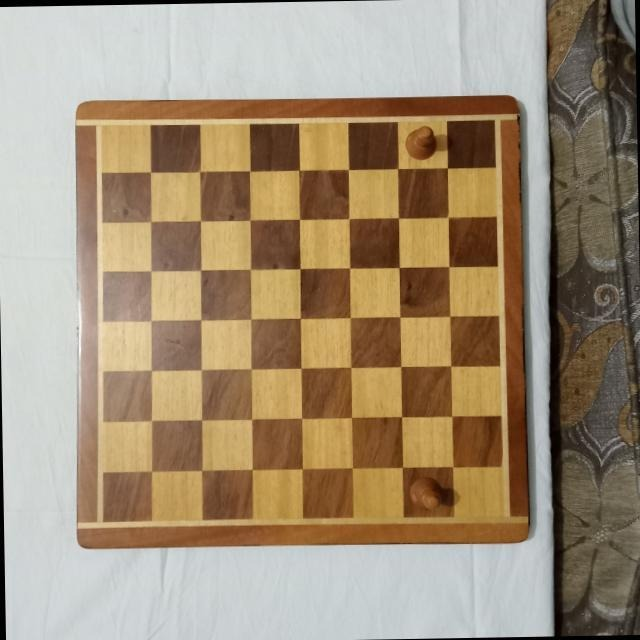white-pawn: (405, 474, 444, 510), (402, 121, 437, 160)
